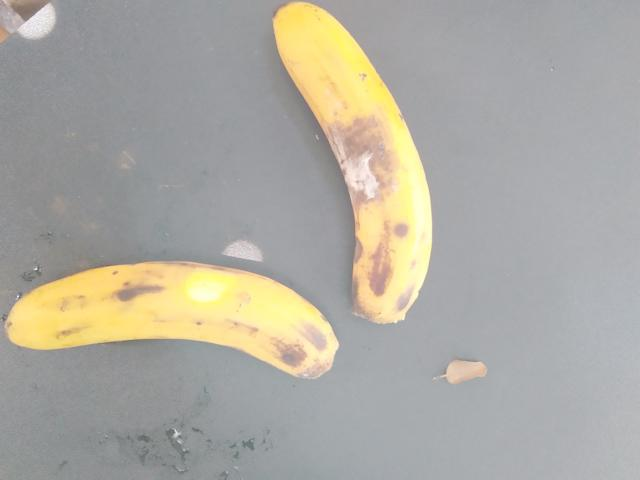overripe: (249, 0, 445, 340), (3, 245, 359, 399)
